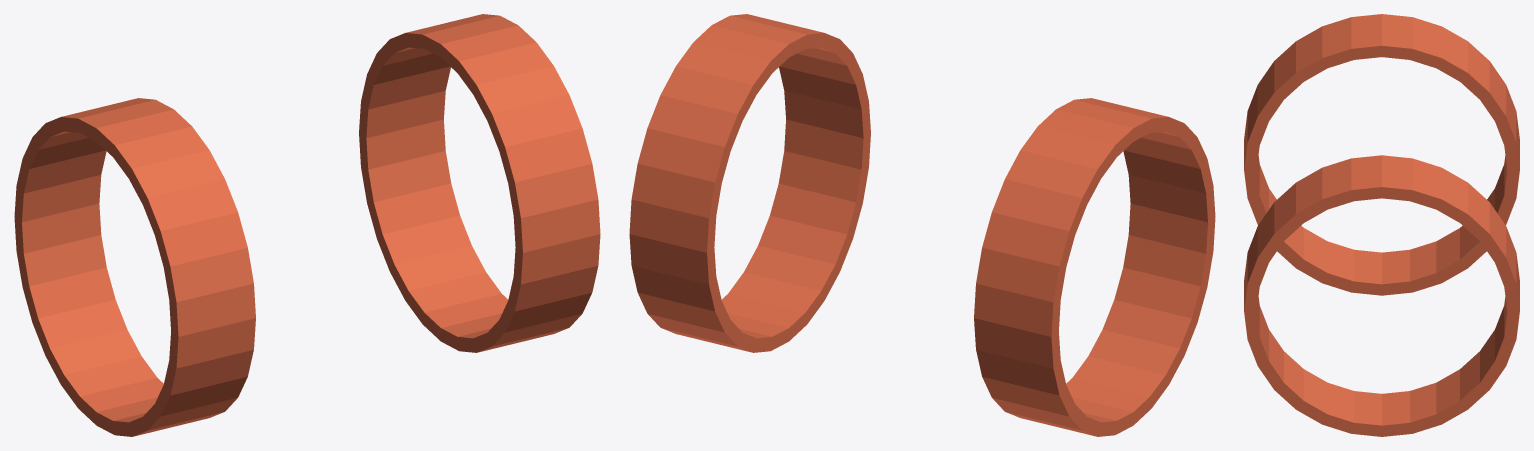
File: motorcycle-racing-and-street-bikes-tyre-warmer-set-ebc36be9__15440.glb
3 renders of one model, left to right at view 1: azimuth 30°, elevation 25°; view 2: azimuth 150°, elevation 25°; view 3: azimuth 270°, elevation 25°, orthographic. The views are drawn at different scales.
Visible parts, largest first — view 1: tyre-warmer-set; view 2: tyre-warmer-set; view 3: tyre-warmer-set.
Boxes of the visible parts, bbox=[...] form: tyre-warmer-set: bbox=[14, 14, 600, 436]; tyre-warmer-set: bbox=[629, 14, 1215, 436]; tyre-warmer-set: bbox=[1244, 14, 1519, 436].
Size of the model in its own units: 0.98 by 0.66 by 0.66.
